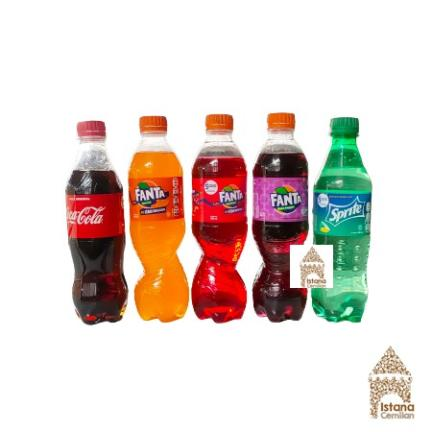container: (65, 121, 127, 324), (311, 118, 372, 322), (130, 117, 188, 321), (191, 115, 247, 323), (252, 112, 307, 322)
fluid: (311, 145, 372, 322), (130, 151, 188, 322), (252, 152, 307, 322), (192, 157, 247, 323), (65, 172, 125, 320)
fluid-surface: (197, 152, 242, 157), (72, 168, 113, 173), (259, 151, 302, 155), (330, 146, 357, 152), (156, 150, 173, 153), (141, 150, 156, 153), (135, 151, 141, 154)
